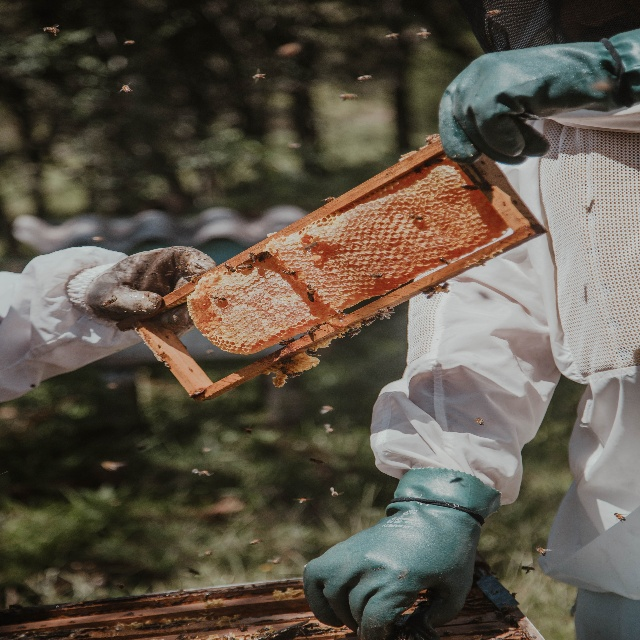Guantes: (298, 466, 503, 640), (439, 27, 640, 165), (65, 246, 216, 323)
